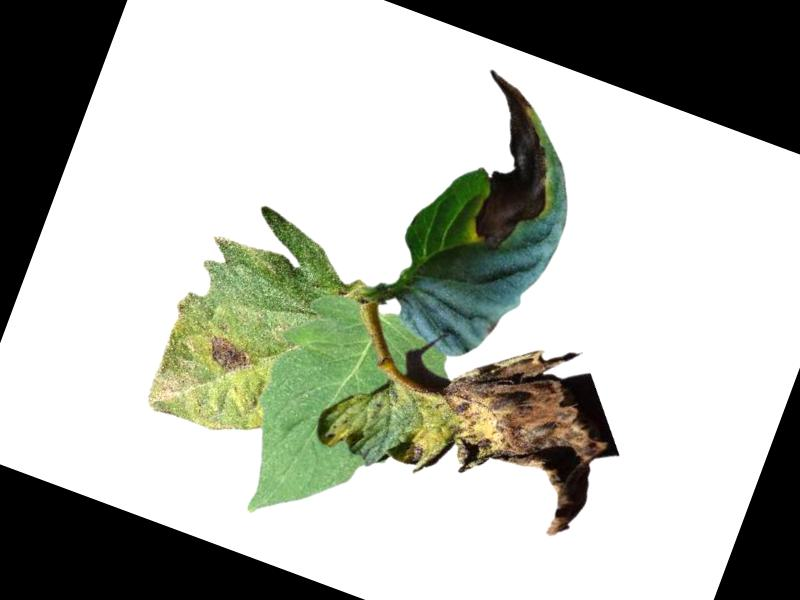Early_blight: (377, 311, 632, 547), (429, 69, 588, 265), (202, 334, 256, 377)
healthy: (225, 284, 464, 563)
